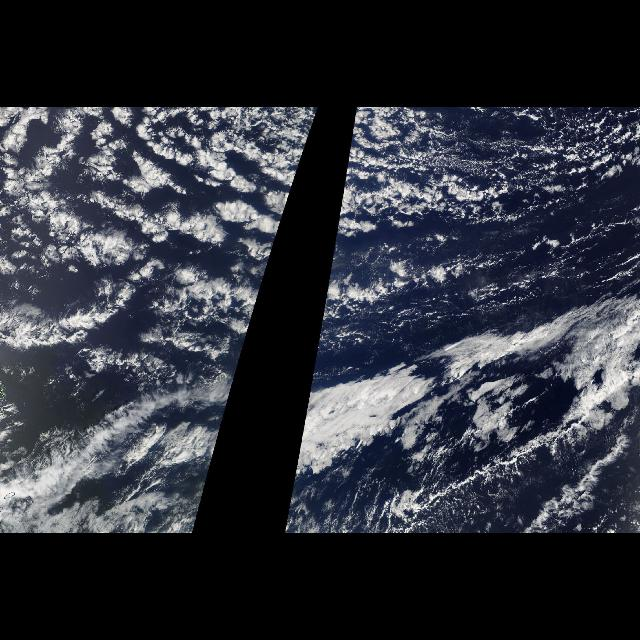Fish: (280, 321, 636, 533), (51, 321, 253, 533)
Flower: (1, 107, 320, 365), (314, 108, 532, 366)
Gravel: (324, 107, 640, 297), (1, 110, 320, 298)
